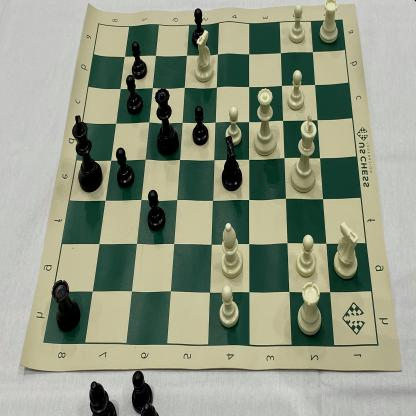black-king: (70, 110, 104, 196)
black-knight: (216, 136, 246, 195)
black-pawn: (145, 186, 169, 234), (122, 73, 145, 119), (114, 145, 136, 192), (189, 103, 212, 147), (189, 6, 211, 49), (129, 38, 151, 81)
black-queen: (150, 83, 181, 158)
black-rook: (50, 276, 84, 336)
white-bishop: (218, 218, 247, 281)
white-king: (288, 112, 321, 194)
white-knight: (331, 214, 362, 282)
white-pawn: (216, 282, 243, 330), (294, 232, 320, 277), (284, 68, 308, 112), (286, 2, 310, 46), (224, 105, 243, 147)
white-queen: (251, 84, 279, 157)
white-rook: (293, 279, 327, 338), (317, 0, 343, 47)
